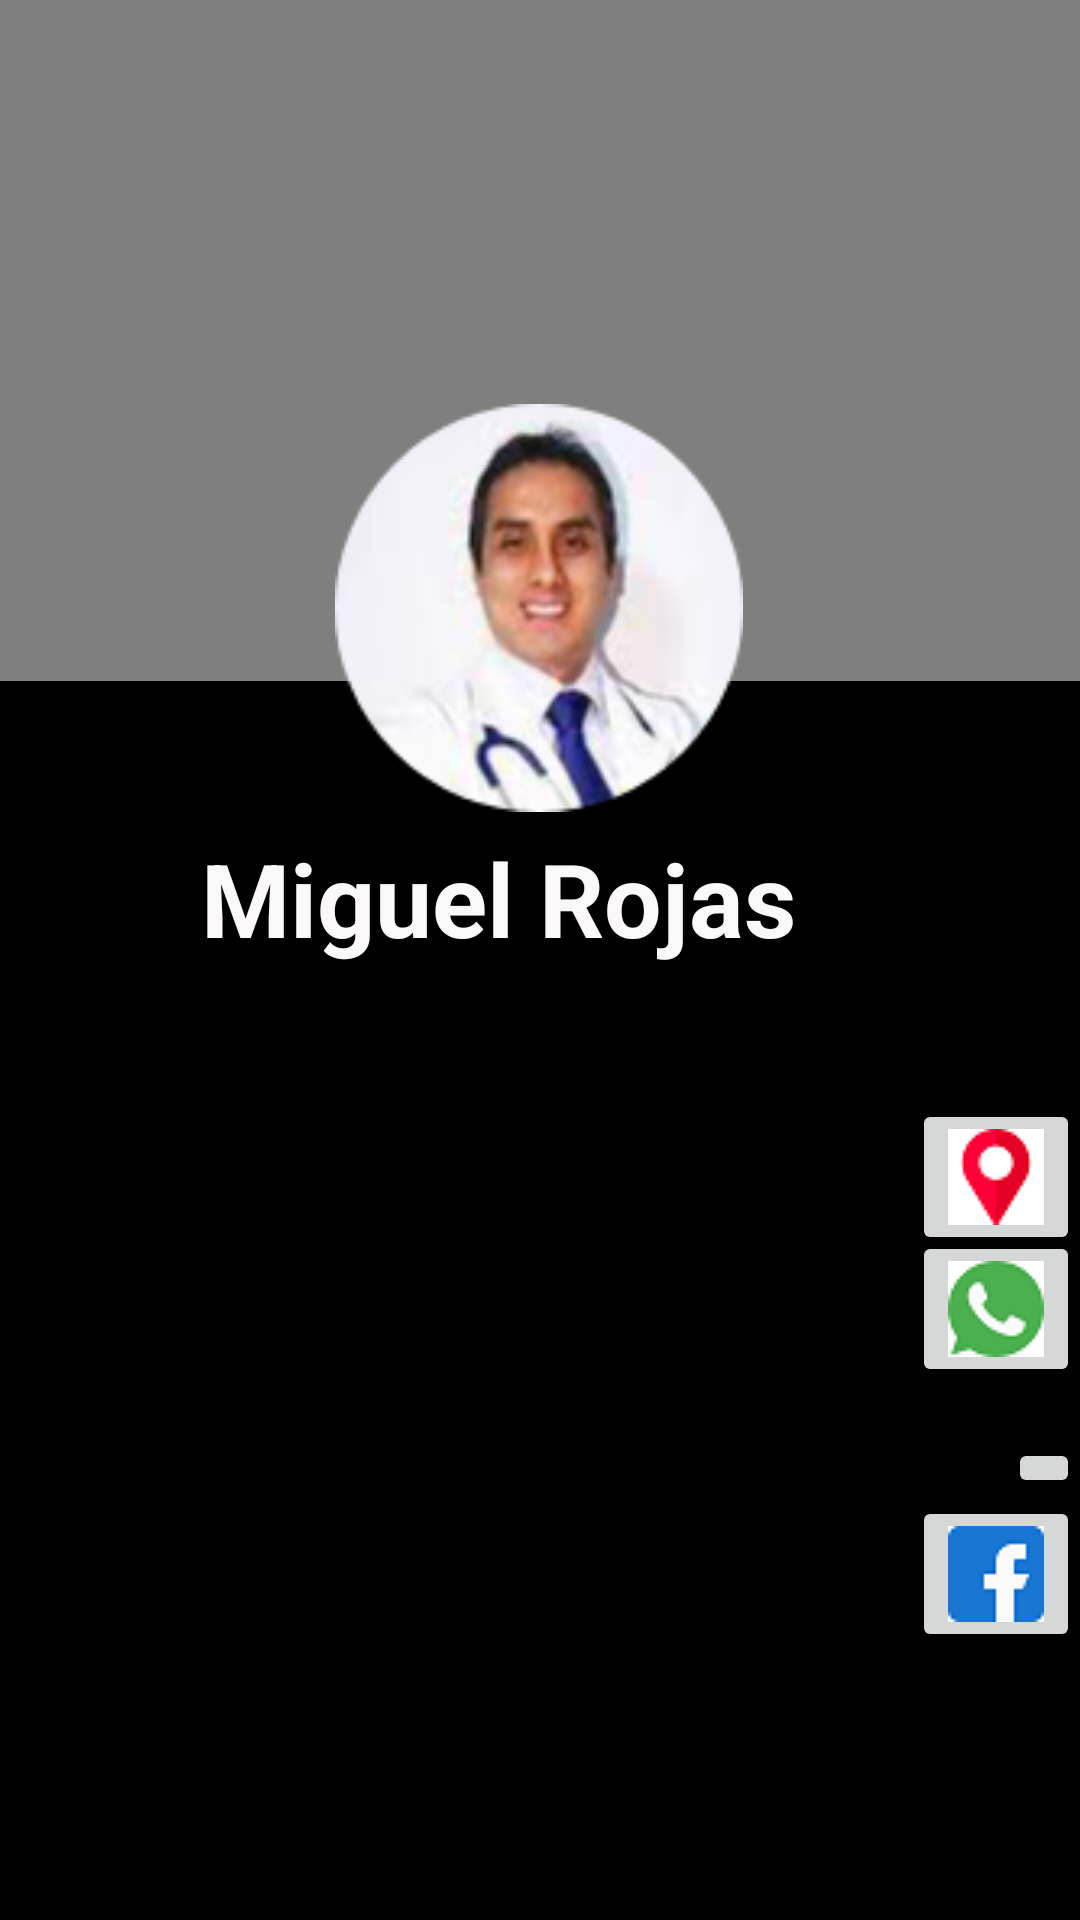

Screen size 1080*1920. Icon name, then its center in pixels as (x,y):
ubicacion: (996,1177)
